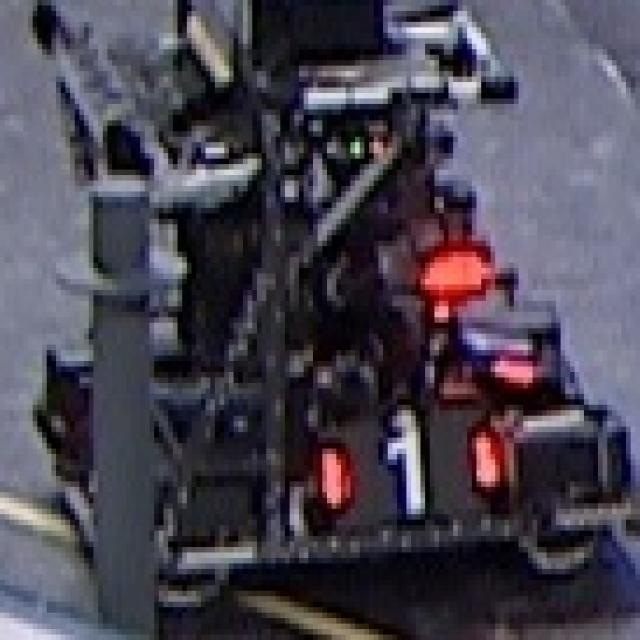R1: (290, 410, 509, 531)
